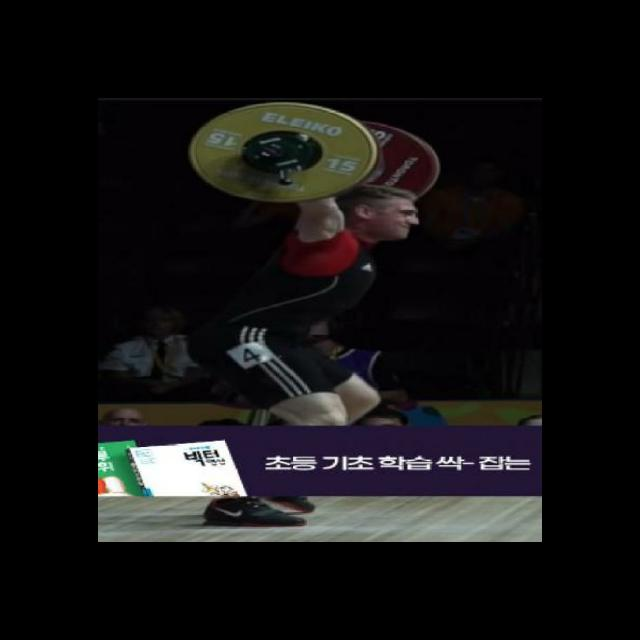barbell: (188, 100, 385, 207)
